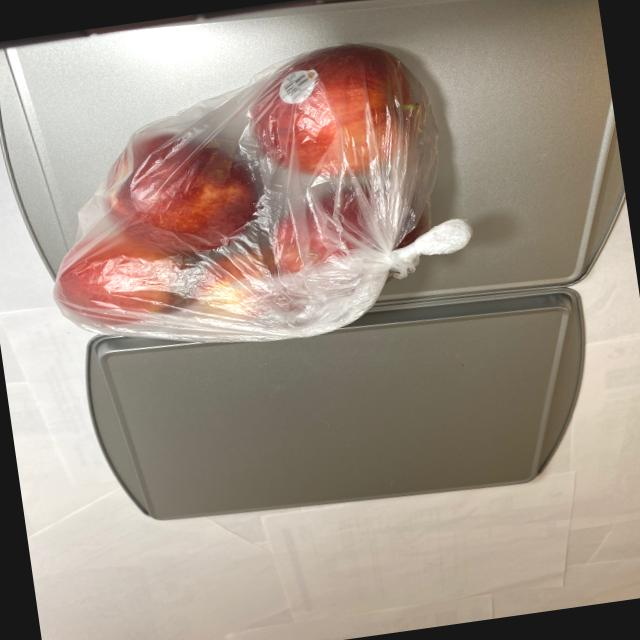apple: (27, 31, 460, 353)
